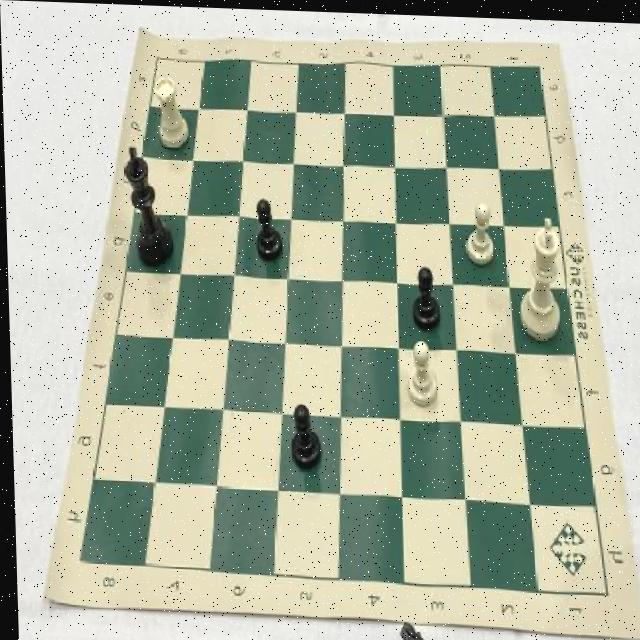black-bishop: (118, 140, 177, 267)
black-knight: (250, 186, 290, 266), (405, 252, 443, 333), (283, 397, 320, 471)
white-bishop: (506, 205, 574, 344)
white-knight: (400, 330, 441, 411), (459, 193, 499, 272)
white-queen: (151, 64, 194, 154)
